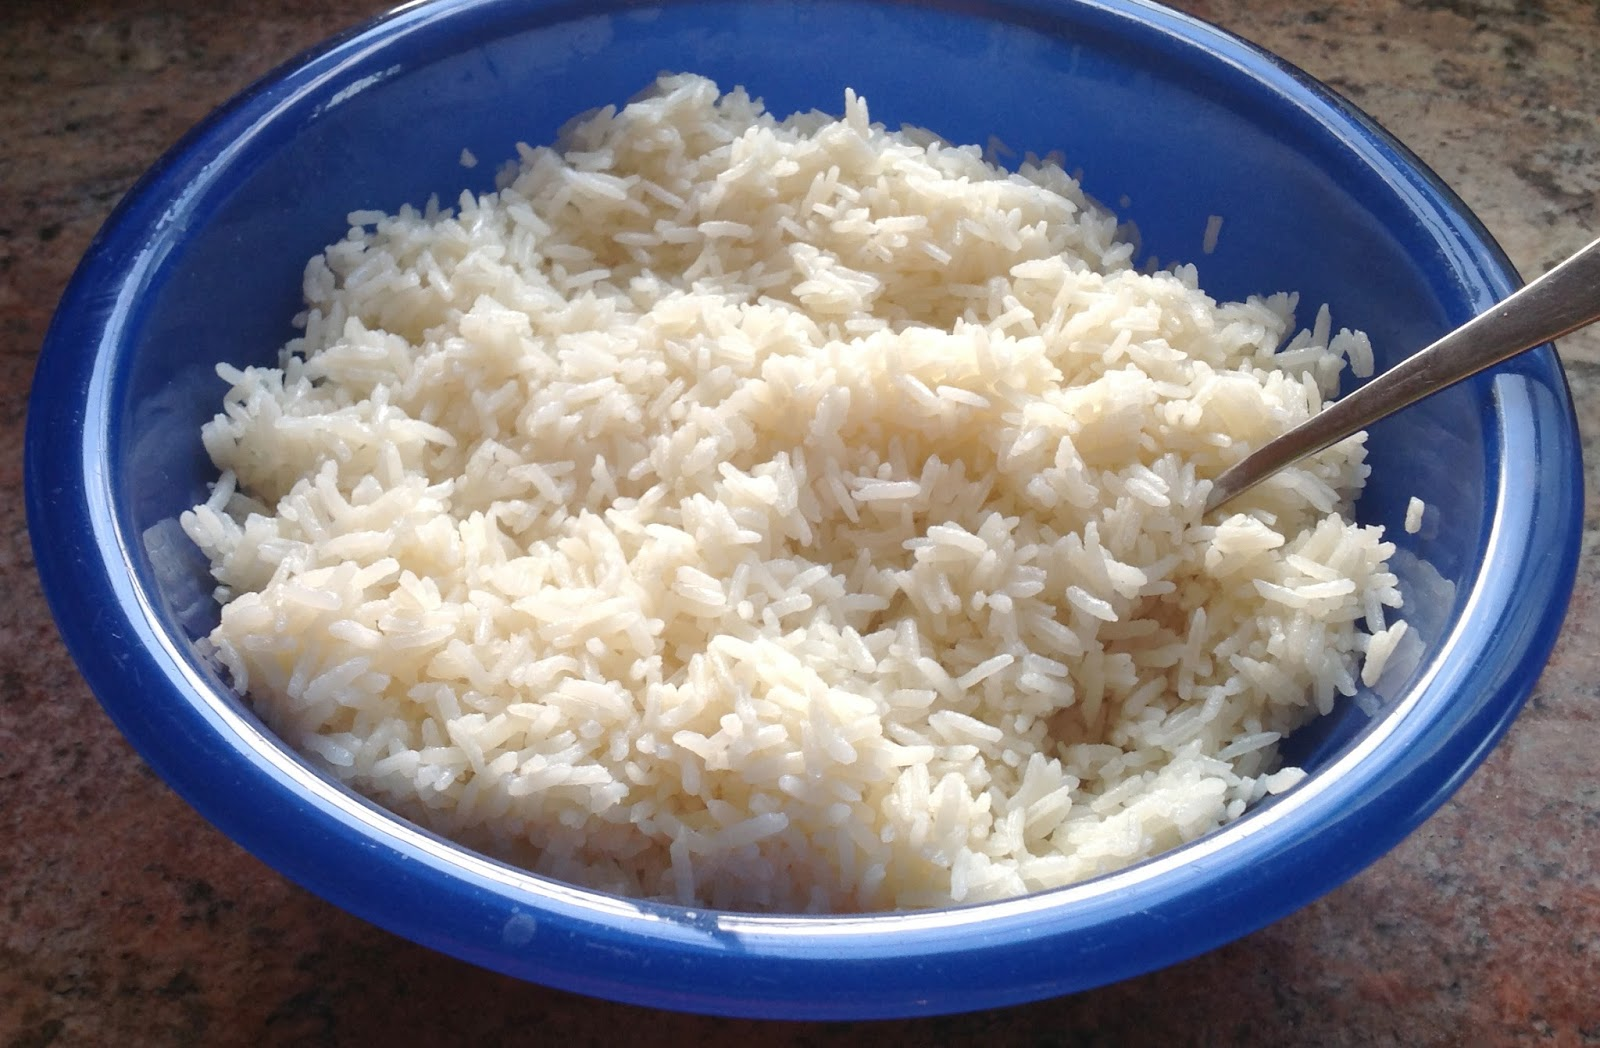rice: (226, 61, 1420, 895)
